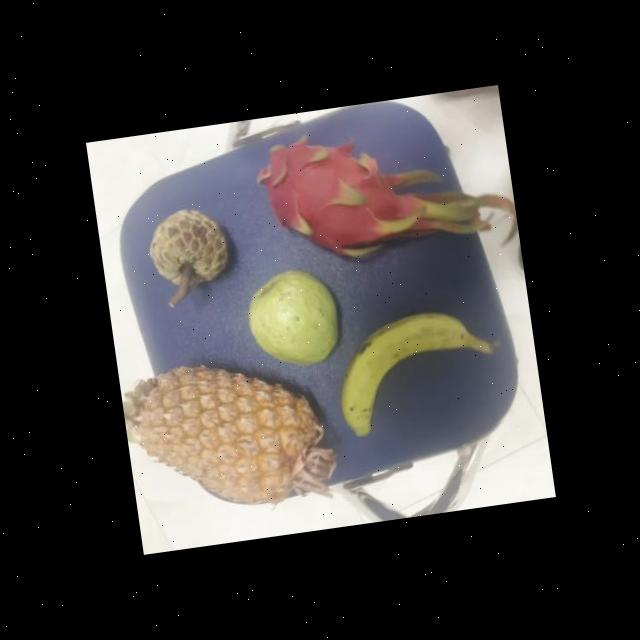Sakya fruit: (144, 202, 235, 296)
banana: (330, 307, 476, 437)
guava: (241, 260, 341, 372)
pineapple: (125, 347, 338, 516)
pitaya: (255, 120, 445, 272)
